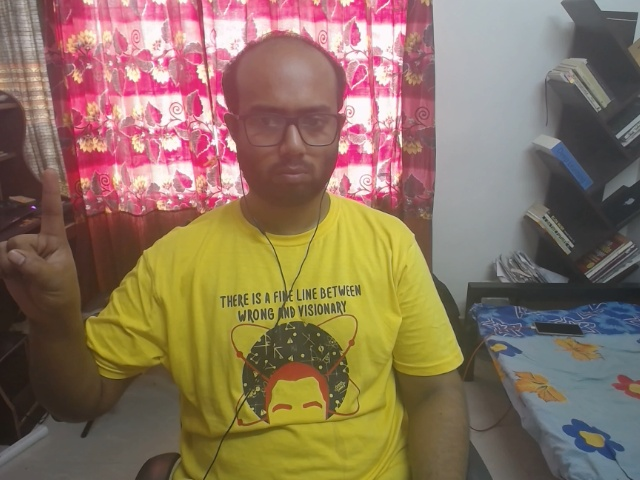one: (1, 157, 137, 317)
